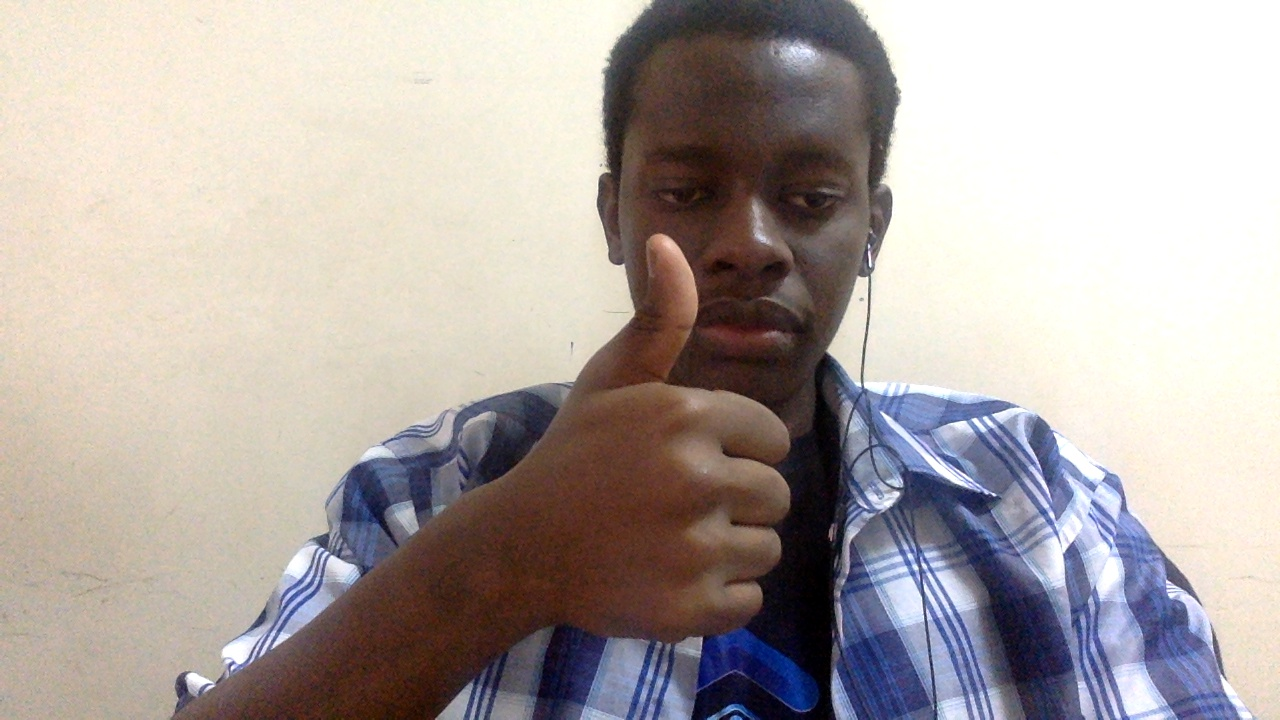ThumbsUp: (486, 232, 795, 649)
